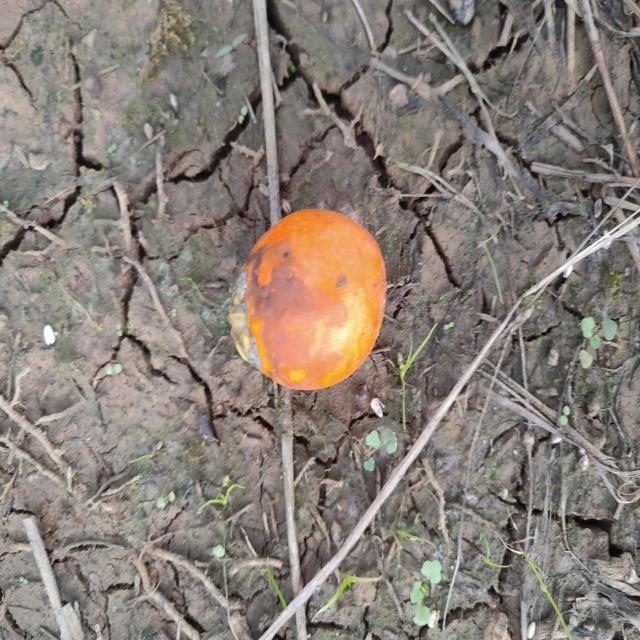good: (229, 209, 388, 394)
